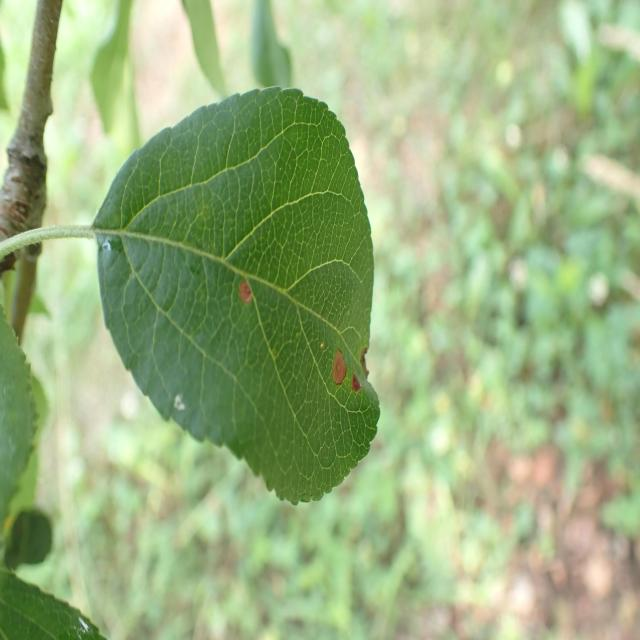Black Rot: (311, 333, 384, 409), (228, 247, 264, 320)
